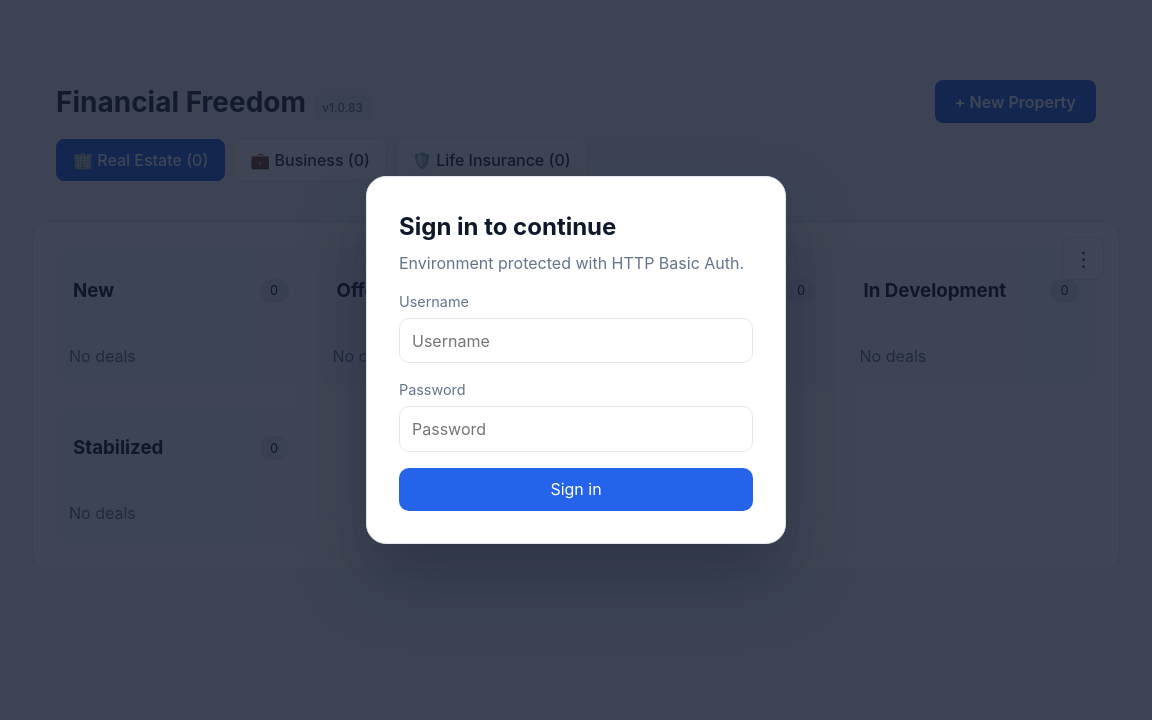
Test: App auth overlay › stores credentials and loads projects on successful sign-in
Type "ds" into the field labelled "Username" at (576, 341), box [399, 318, 753, 363]
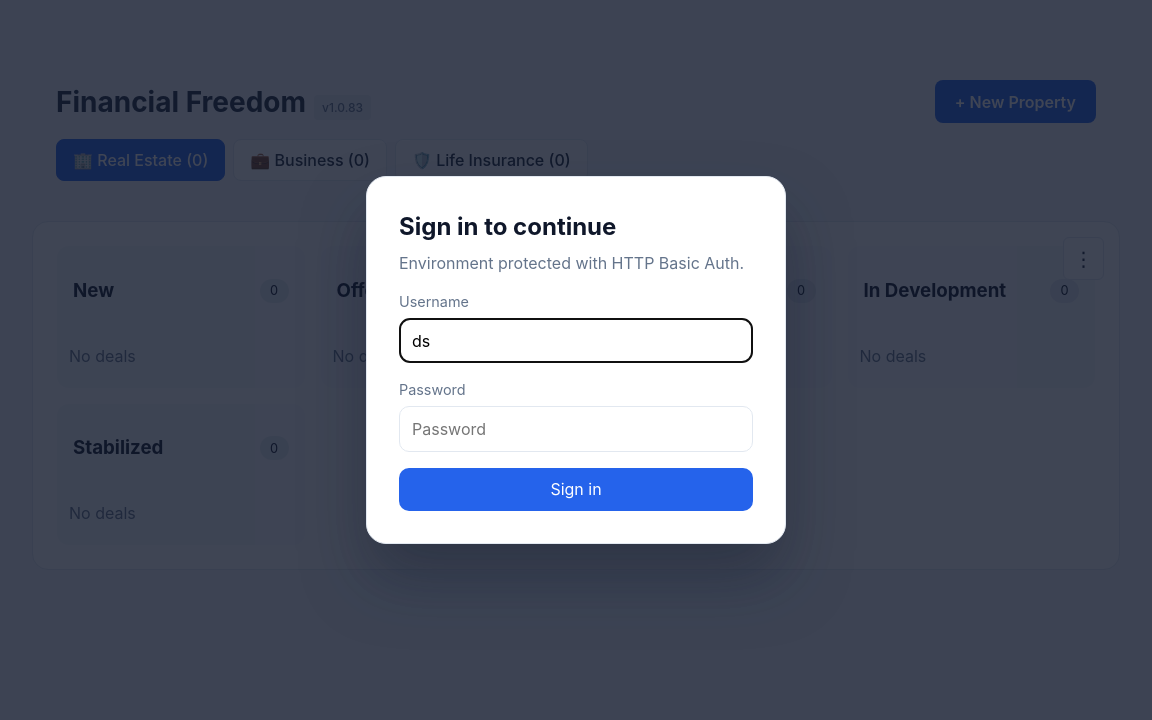
Type "ds1" into the password field labelled "Password" at (576, 429), box [399, 406, 753, 452]
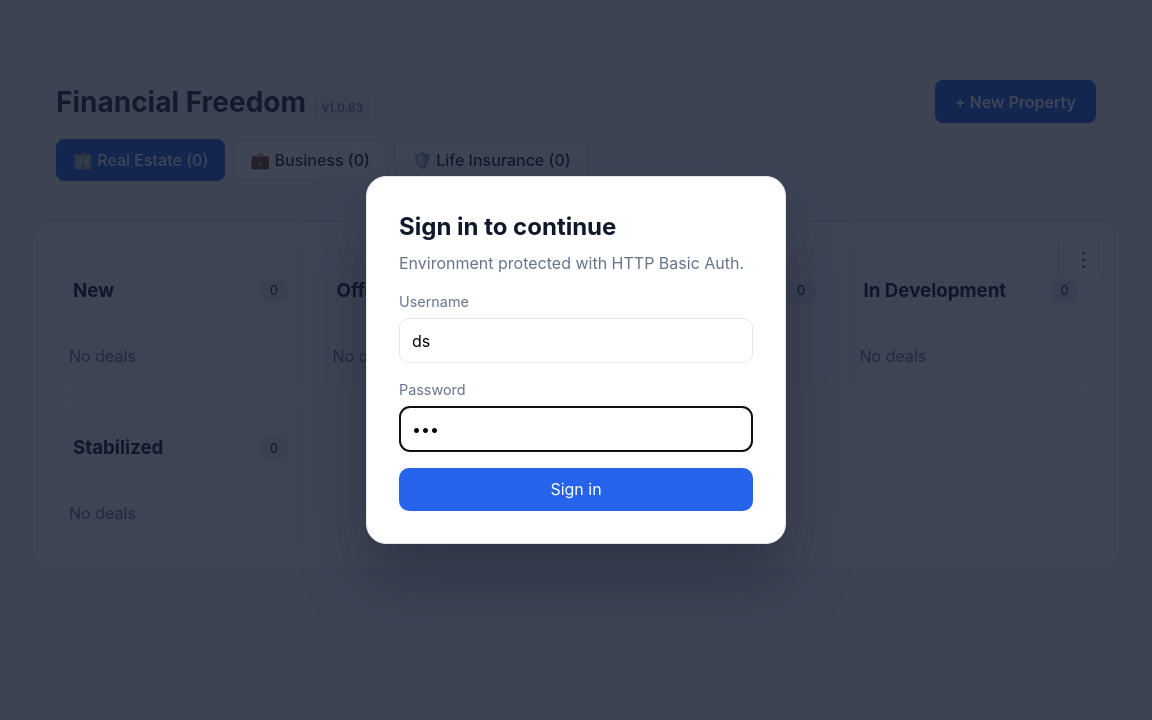
Click the button "Sign in" at (576, 489), box [399, 468, 753, 511]
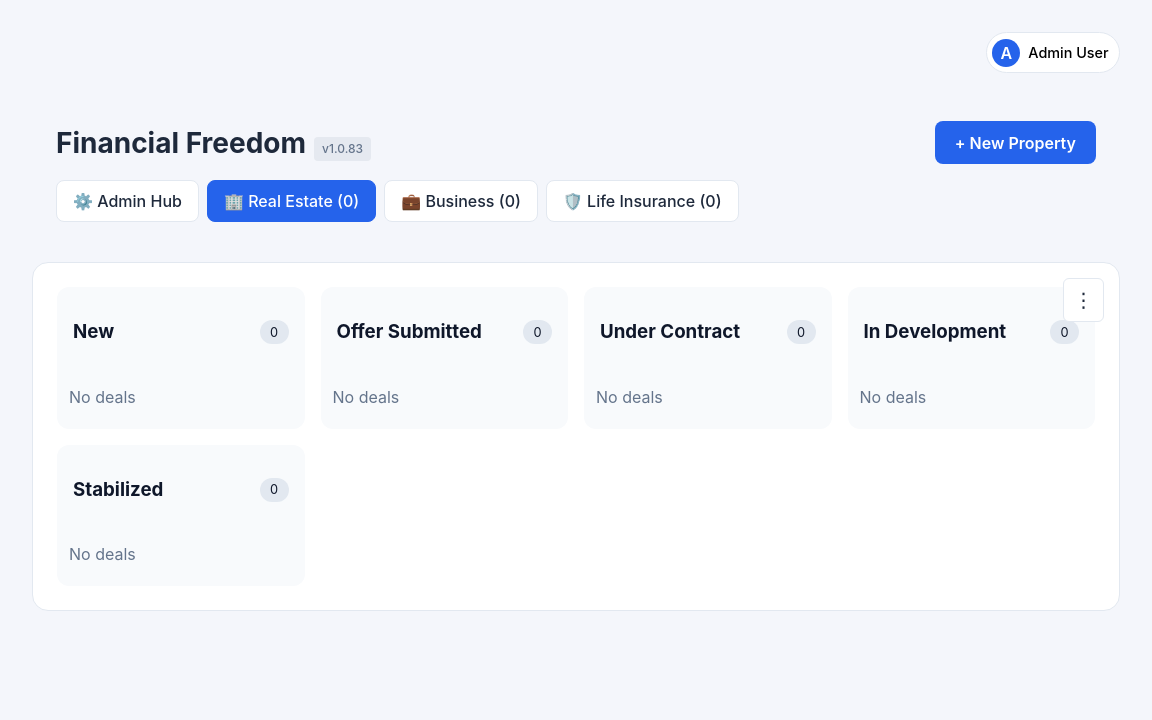
Expected: the heading "Sign in to continue" is gone
